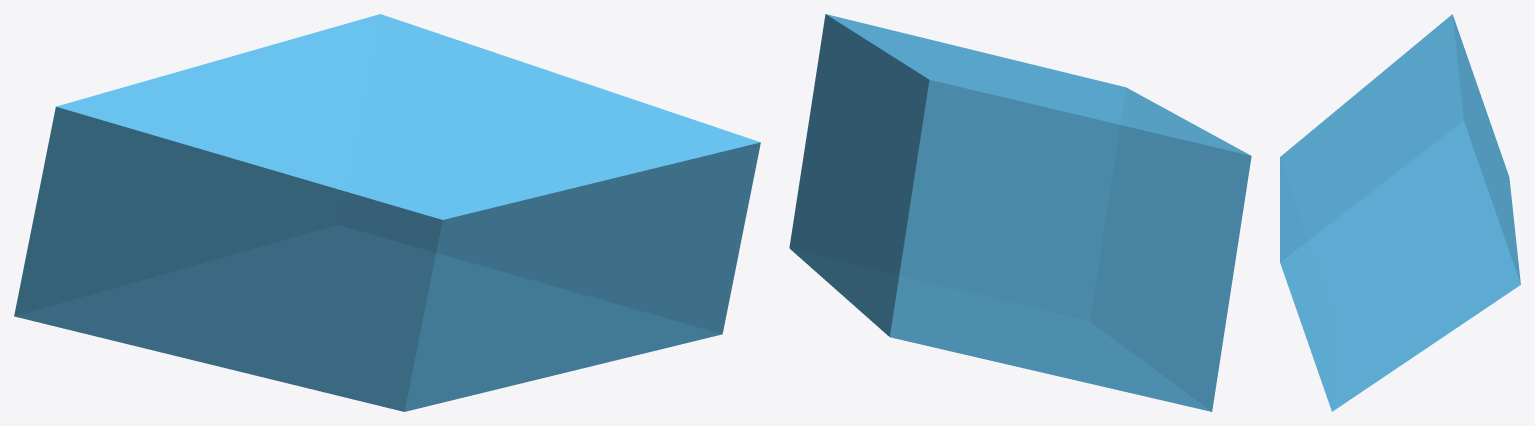
Rendered from Event_421556567_HBrechit_6.fbx.
3 renders of one model, left to right at view 1: azimuth 30°, elevation 25°; view 2: azimuth 150°, elevation 25°; view 3: azimuth 270°, elevation 25°, orthographic. The views are drawn at different scales.
Parts seen in each view (by area): view 1: Model; view 2: Model; view 3: Model.
Part boxes in pixels (x1=…): Model: x1=14, y1=14, x2=760, y2=411; Model: x1=789, y1=14, x2=1251, y2=411; Model: x1=1280, y1=14, x2=1520, y2=411.
Size of the model in its own units: 1.05 by 0.5385 by 0.5596.
